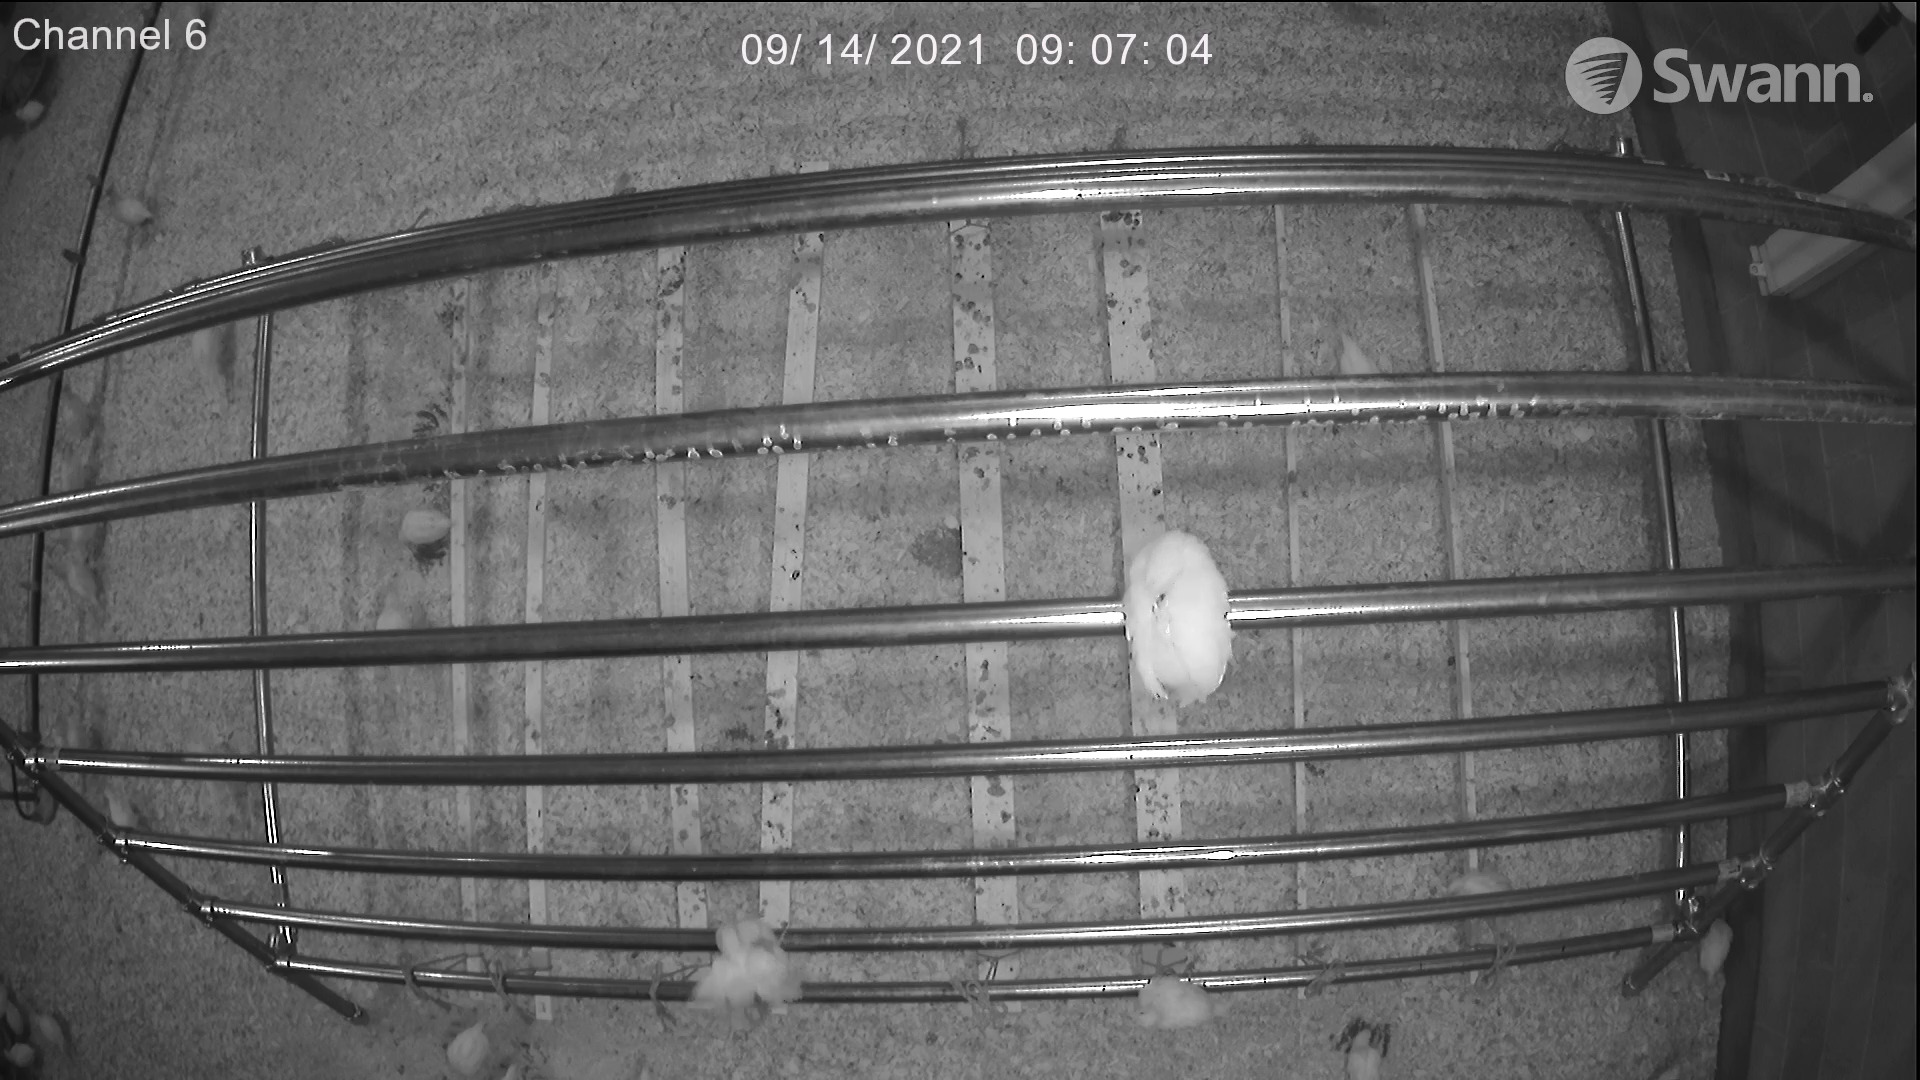Perching: (1084, 529, 1253, 735), (674, 915, 825, 1015), (1120, 957, 1234, 1036)
